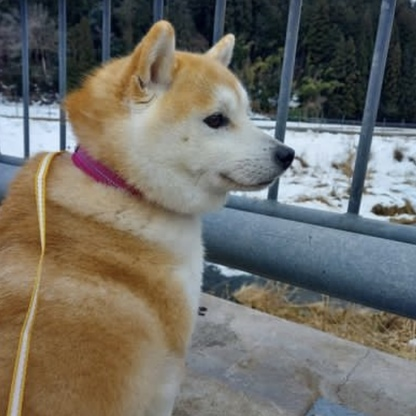shiba: (1, 1, 298, 416)
